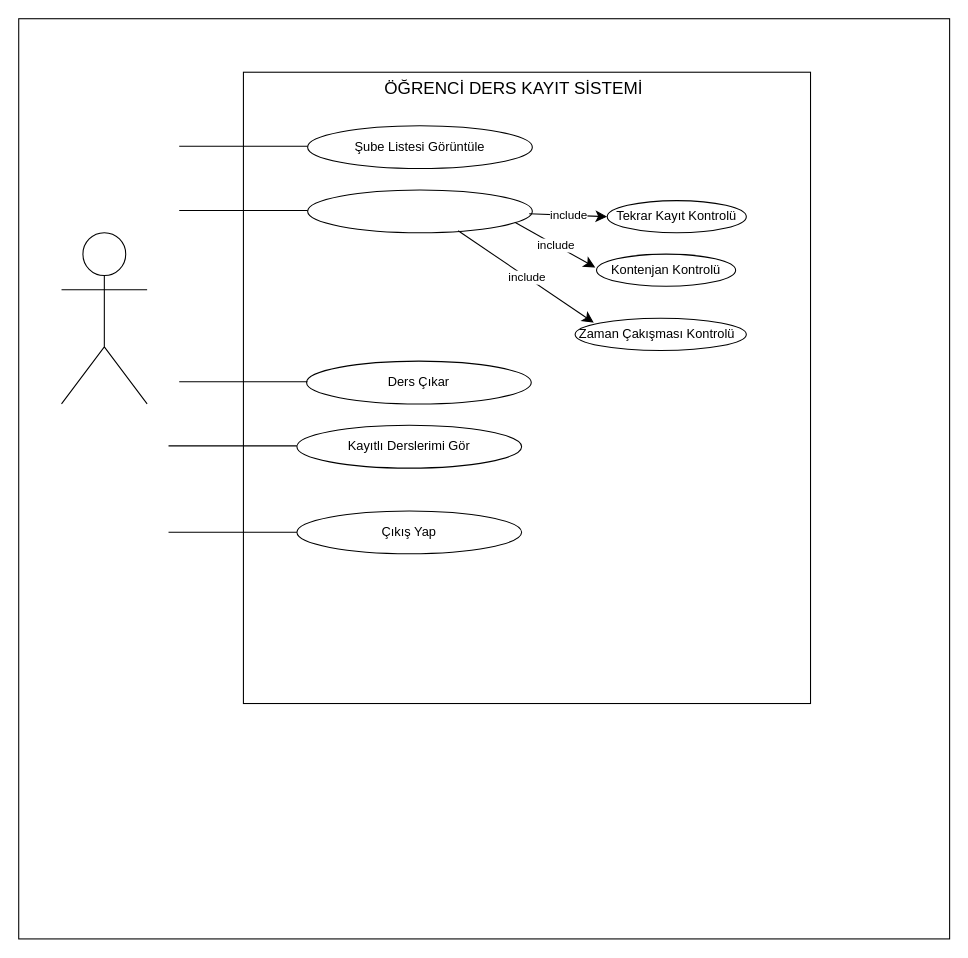
This 968x958 diagram has some shape labels left out. Here are the shapes that lost their labels. From the top down, the centre of each, then its label:
the point at 419,211: Derse Kayıt Ol
the point at 103,318: Student
